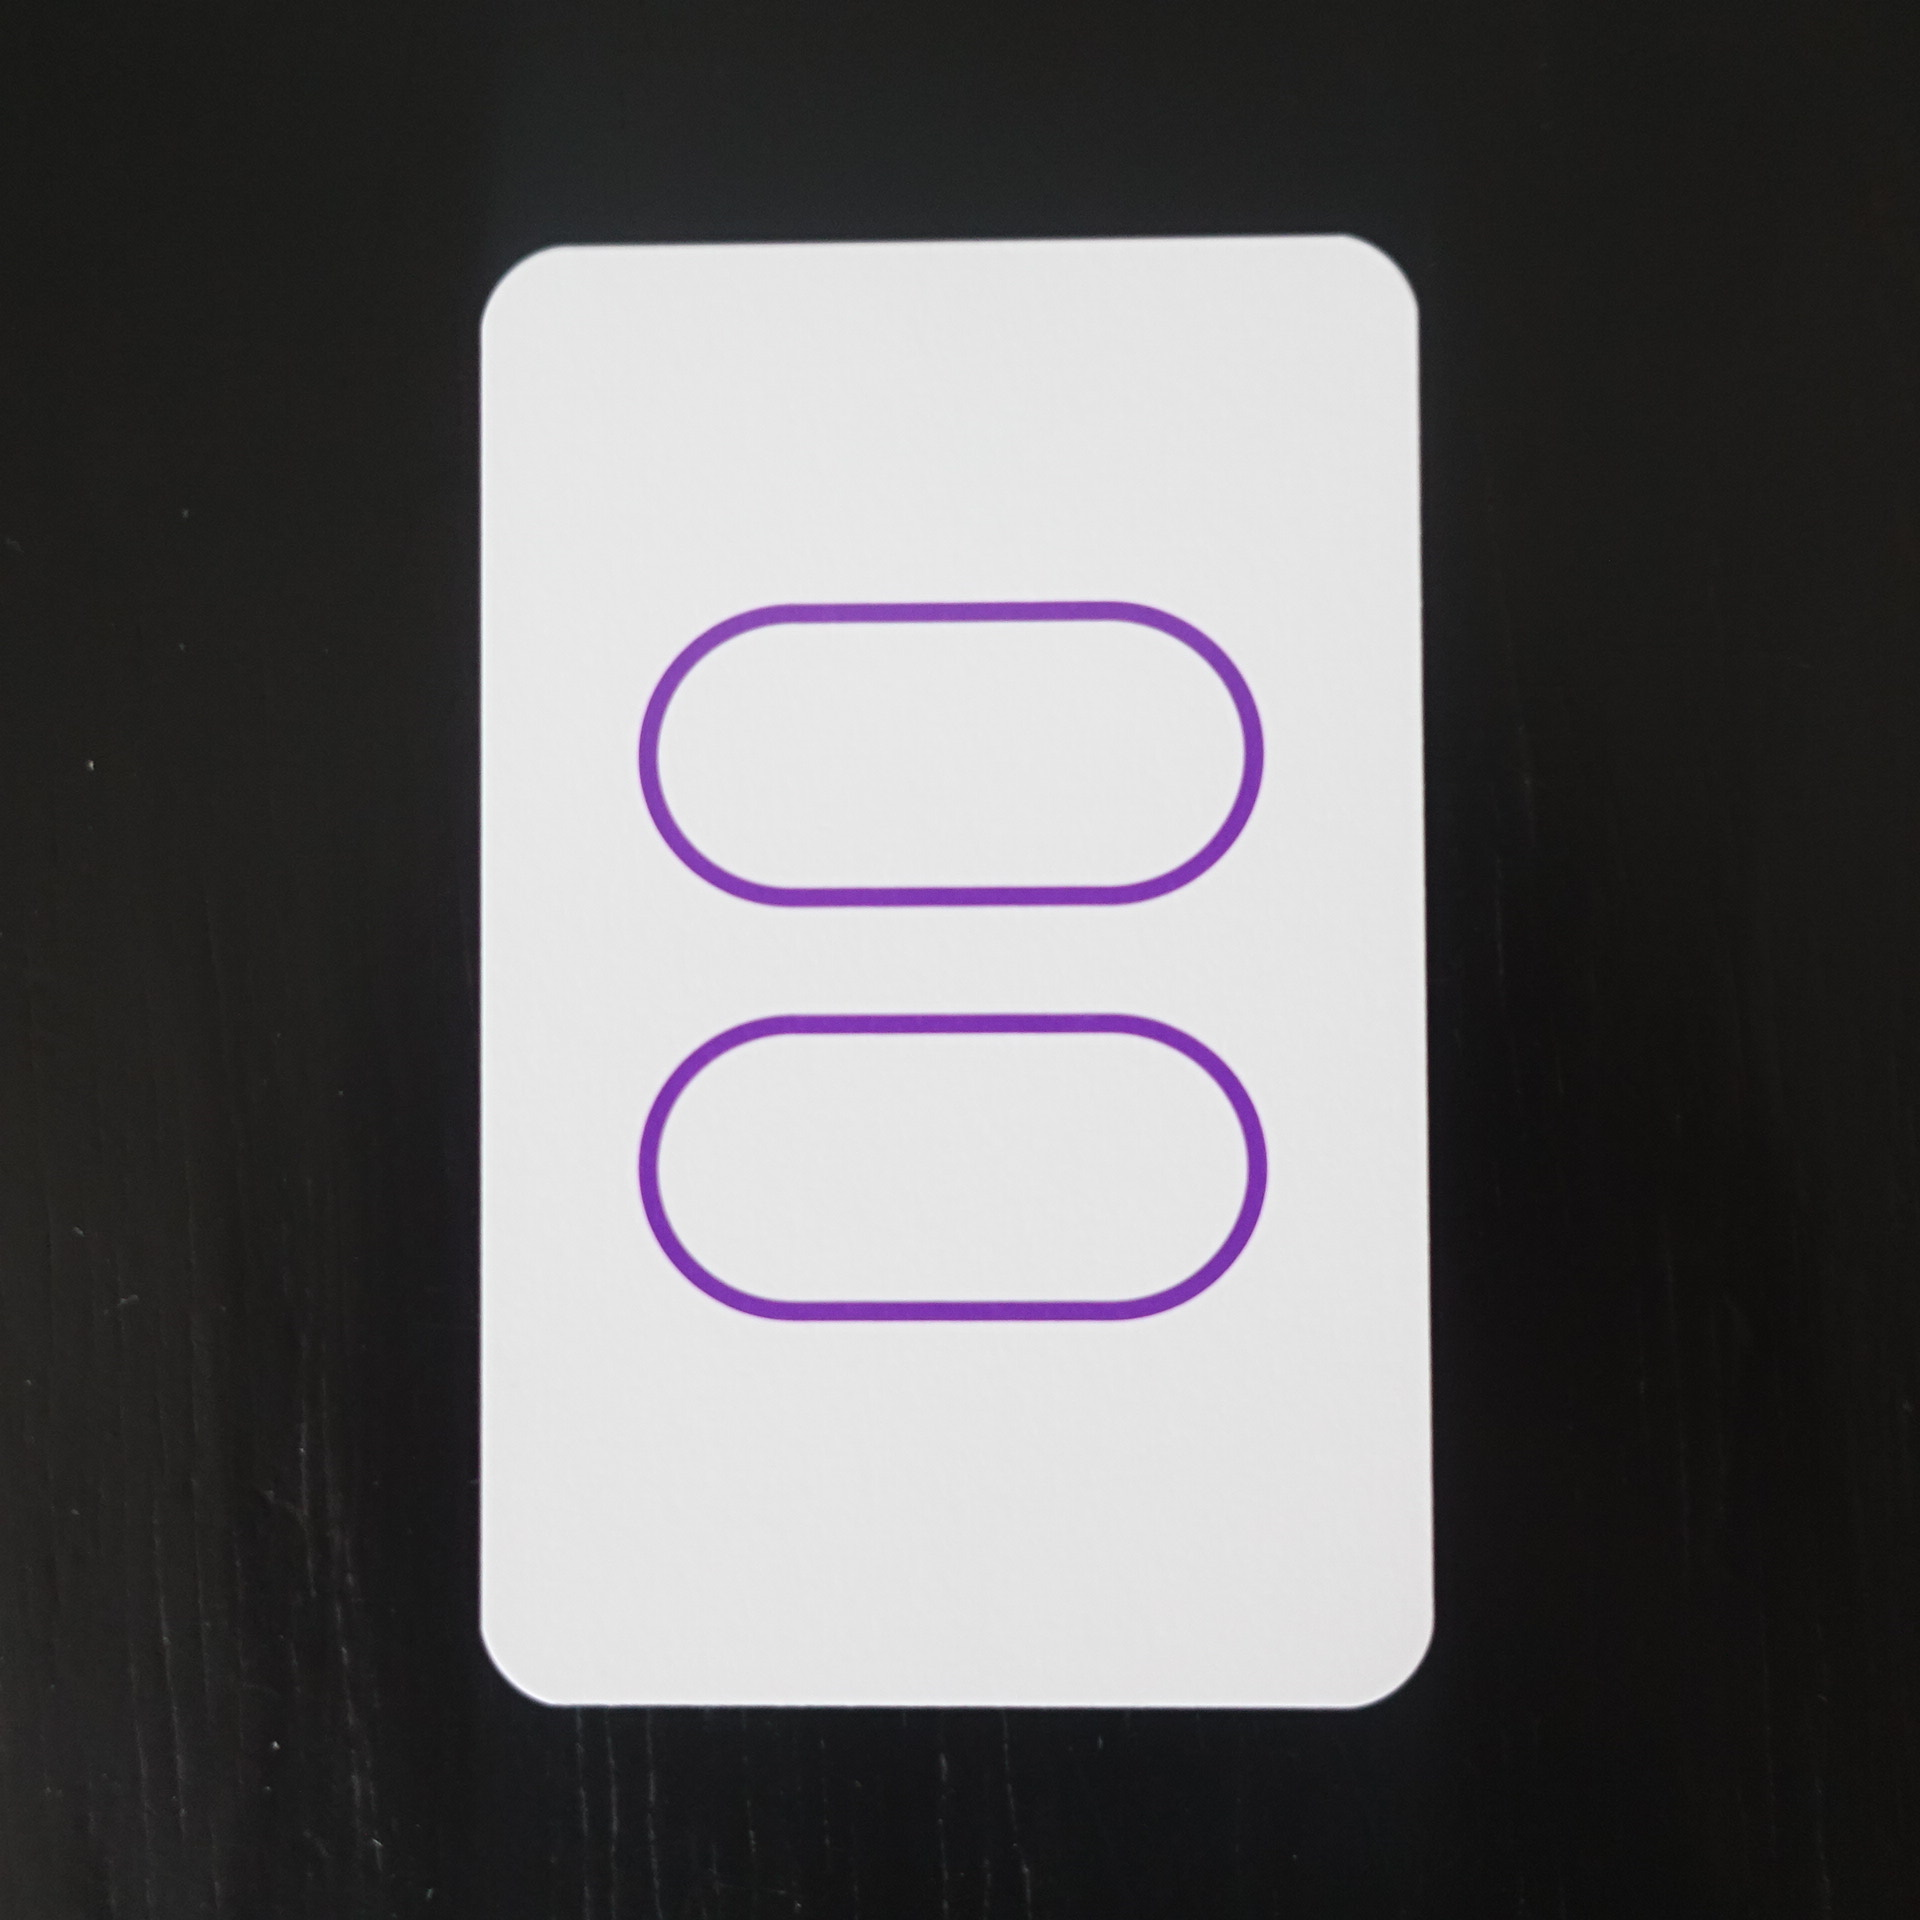c-2-u-o-p: (441, 202, 1459, 1737)
